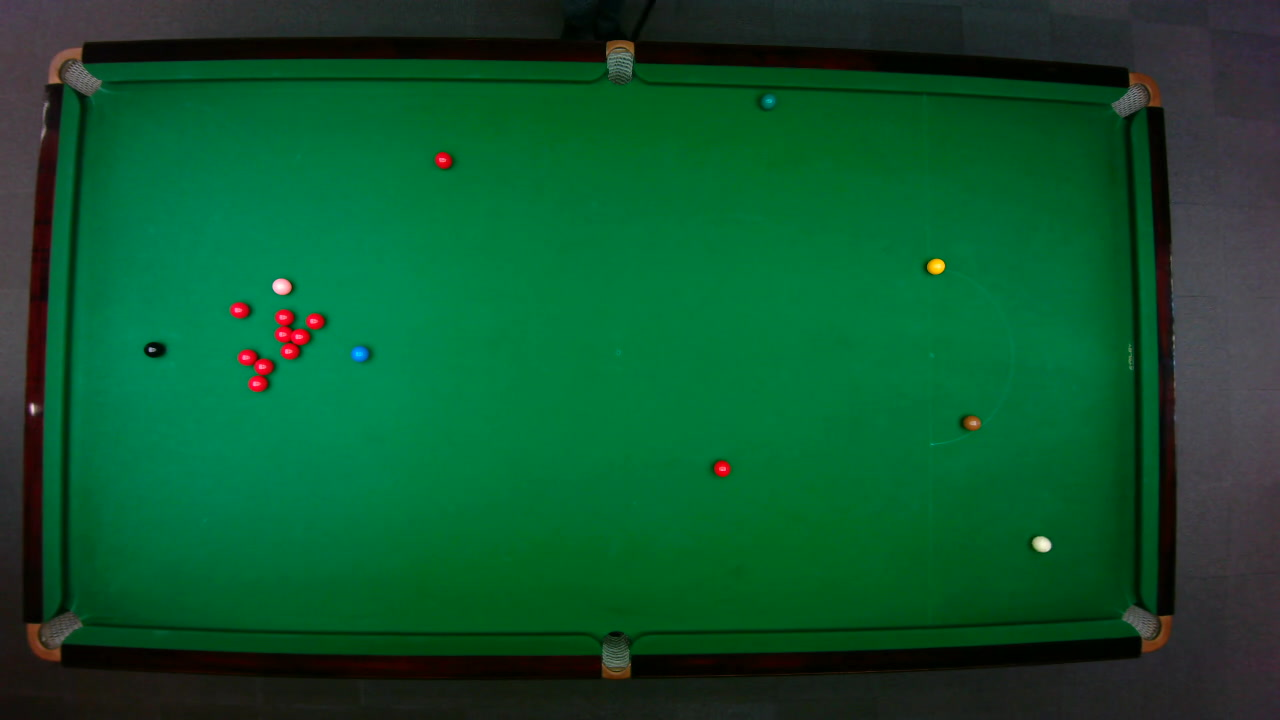bag: (25, 609, 83, 661), (46, 46, 102, 96), (1119, 603, 1172, 652), (1108, 71, 1161, 118), (601, 629, 630, 680), (605, 38, 634, 85)
black: (142, 340, 164, 357)
blue: (350, 344, 369, 362)
brown: (961, 414, 981, 431)
green: (759, 92, 776, 110)
pink: (270, 276, 292, 295)
red: (287, 326, 310, 345), (235, 347, 258, 366), (252, 356, 274, 375), (246, 374, 268, 392), (228, 300, 250, 318), (433, 150, 453, 169), (273, 307, 294, 325), (712, 458, 731, 477), (304, 311, 324, 329), (273, 325, 293, 342), (279, 342, 299, 359)
white: (1029, 534, 1052, 553)
yellow: (925, 256, 945, 274)
zone: (927, 265, 1013, 445)
